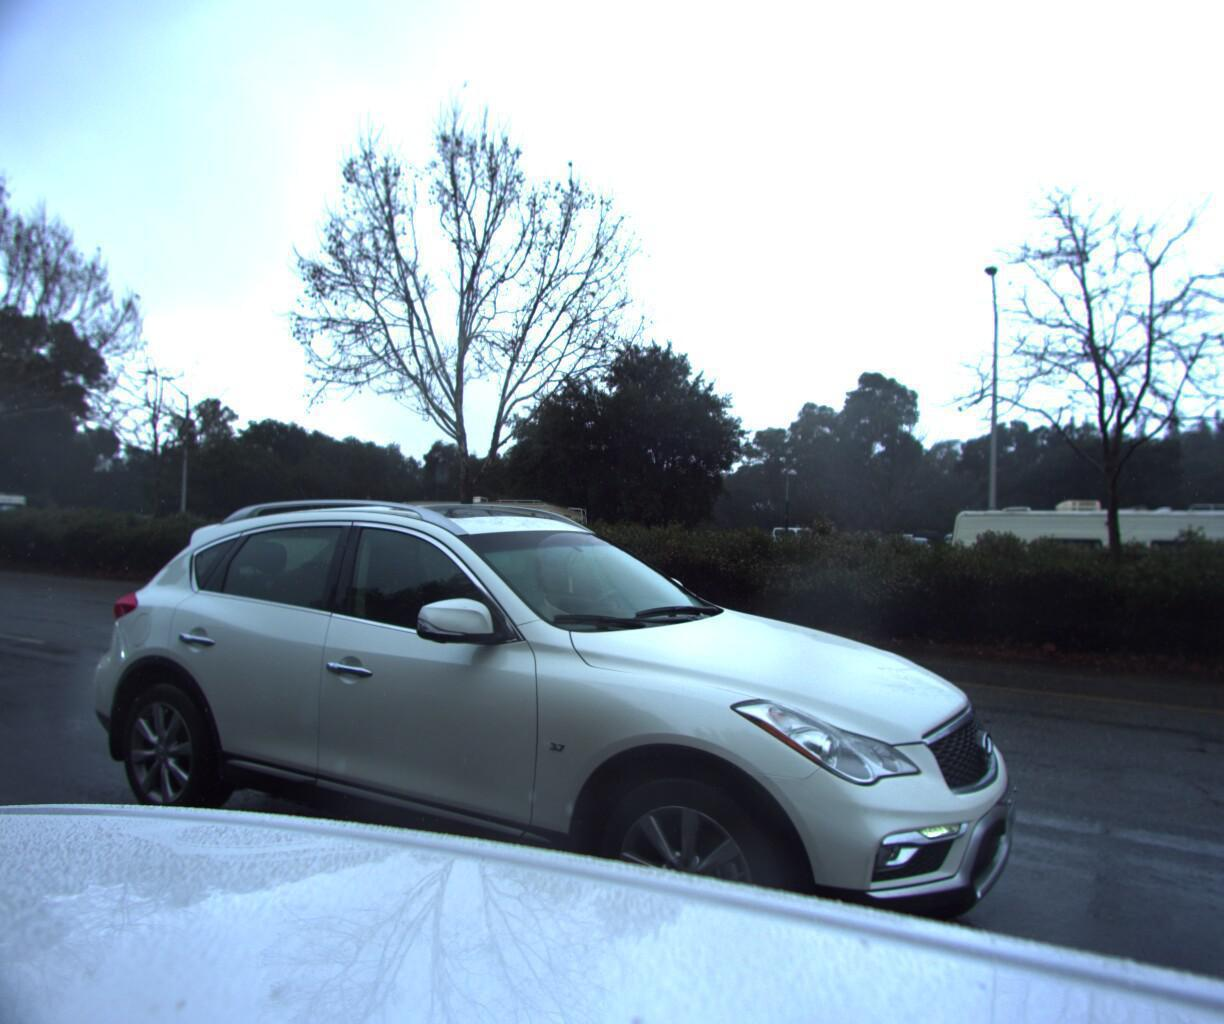car: (51, 459, 1013, 1024)
other_vehicle: (935, 486, 1224, 634), (376, 490, 594, 584), (0, 489, 29, 550)
